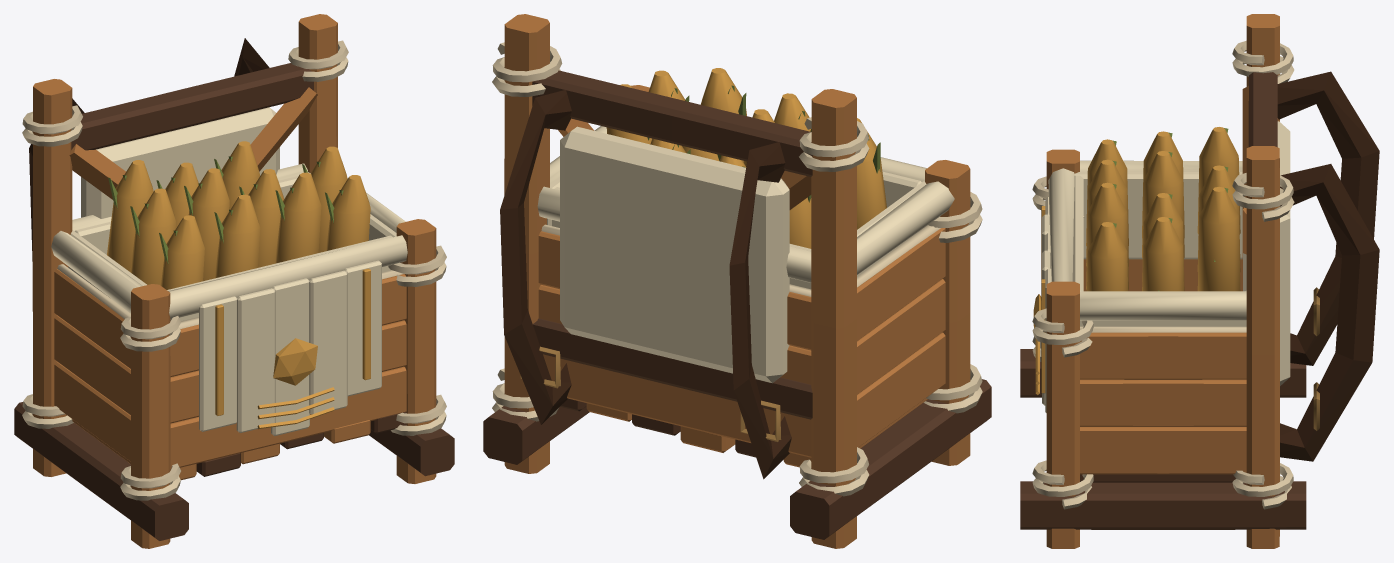
File: prop_trade_pack_corn_a.glb
3 views of the same model, side by side, from view 1: azimuth 30°, elevation 25°; view 2: azimuth 150°, elevation 25°; view 3: azimuth 270°, elevation 25° (orthographic). The views are drawn at different scales.
Parts seen in each view (by area): view 1: prop_trade_pack_corn_a_LOD0; view 2: prop_trade_pack_corn_a_LOD0; view 3: prop_trade_pack_corn_a_LOD0.
Boxes of the visible parts, x1,y1,x2,y2 form: prop_trade_pack_corn_a_LOD0: (14,14,454,548); prop_trade_pack_corn_a_LOD0: (483,14,991,548); prop_trade_pack_corn_a_LOD0: (1020,14,1379,548).
Size of what is drawn, in the model's own units: 0.8384 by 0.96 by 0.8041.
